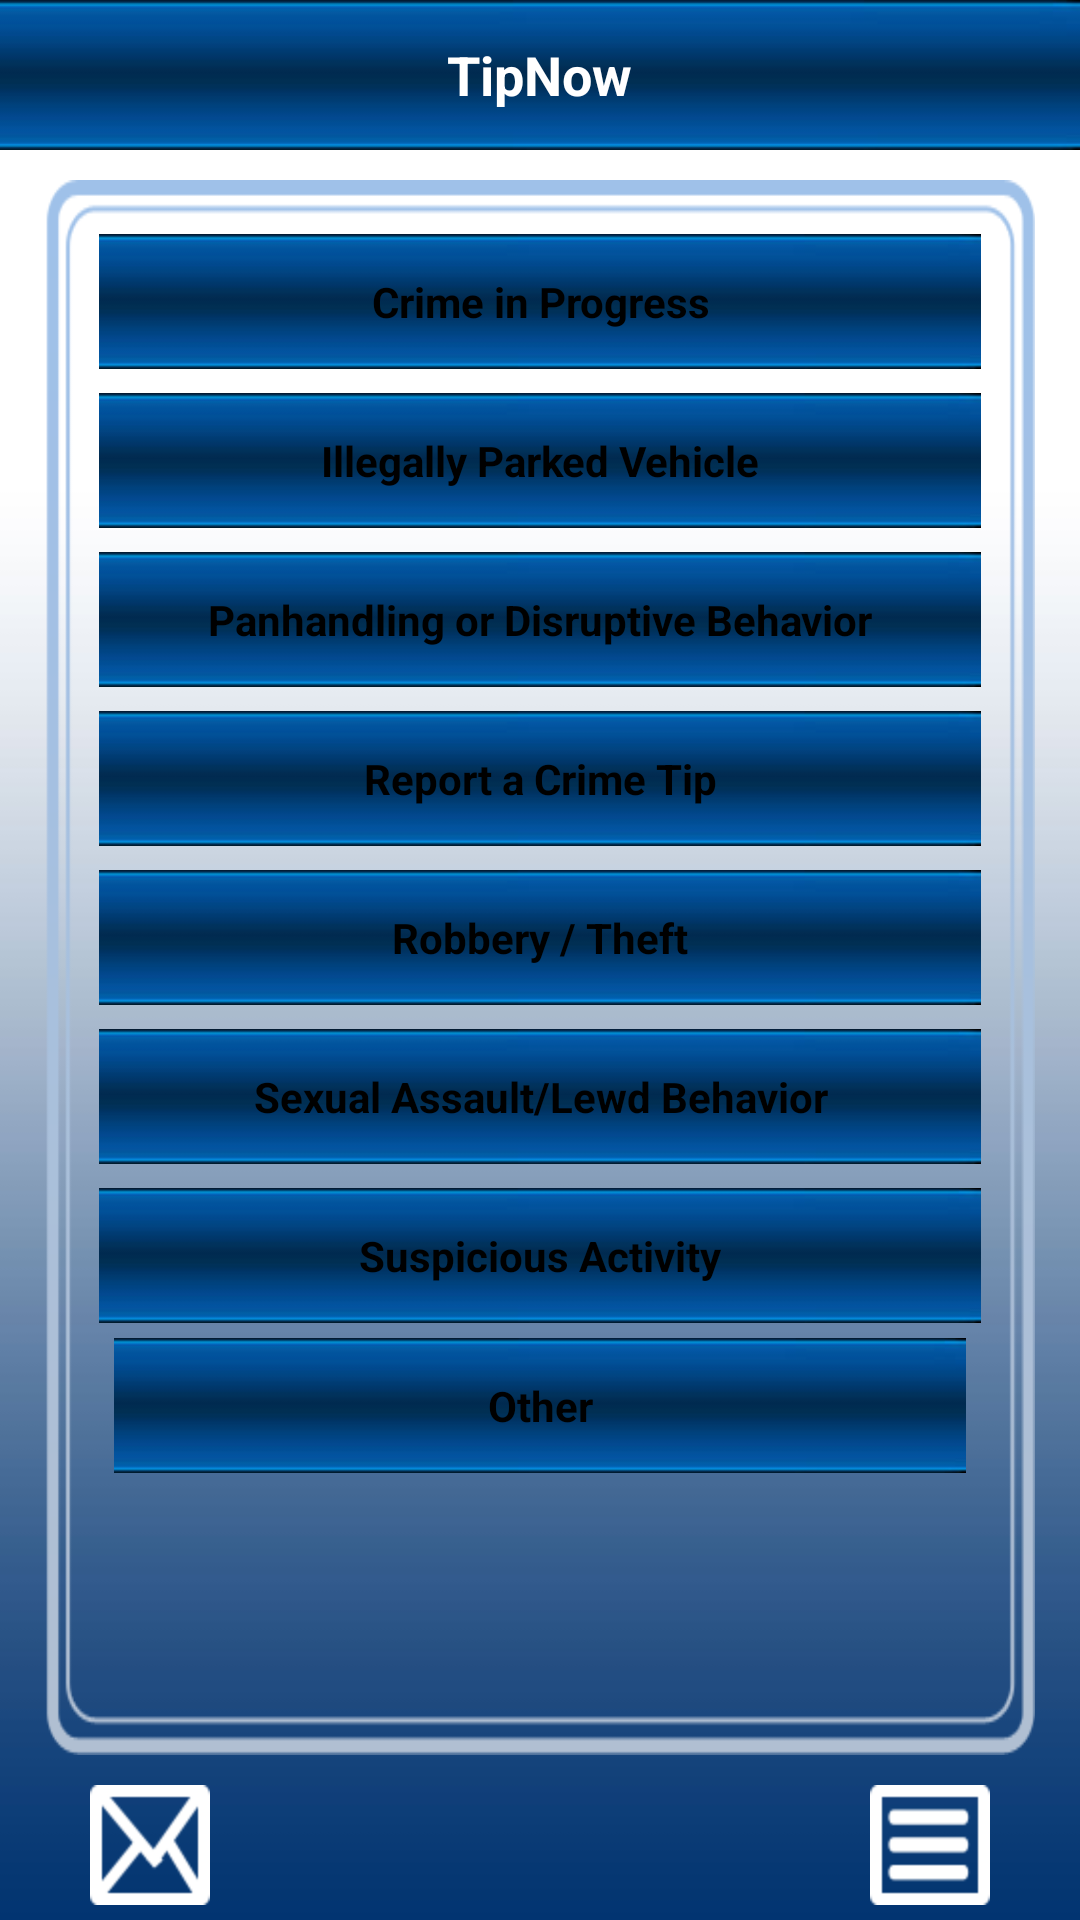

Point at icon controls on the screen. Image size 1080 x 1920, points as (x,y).
list: (930,1845)
newtip: (150,1845)
